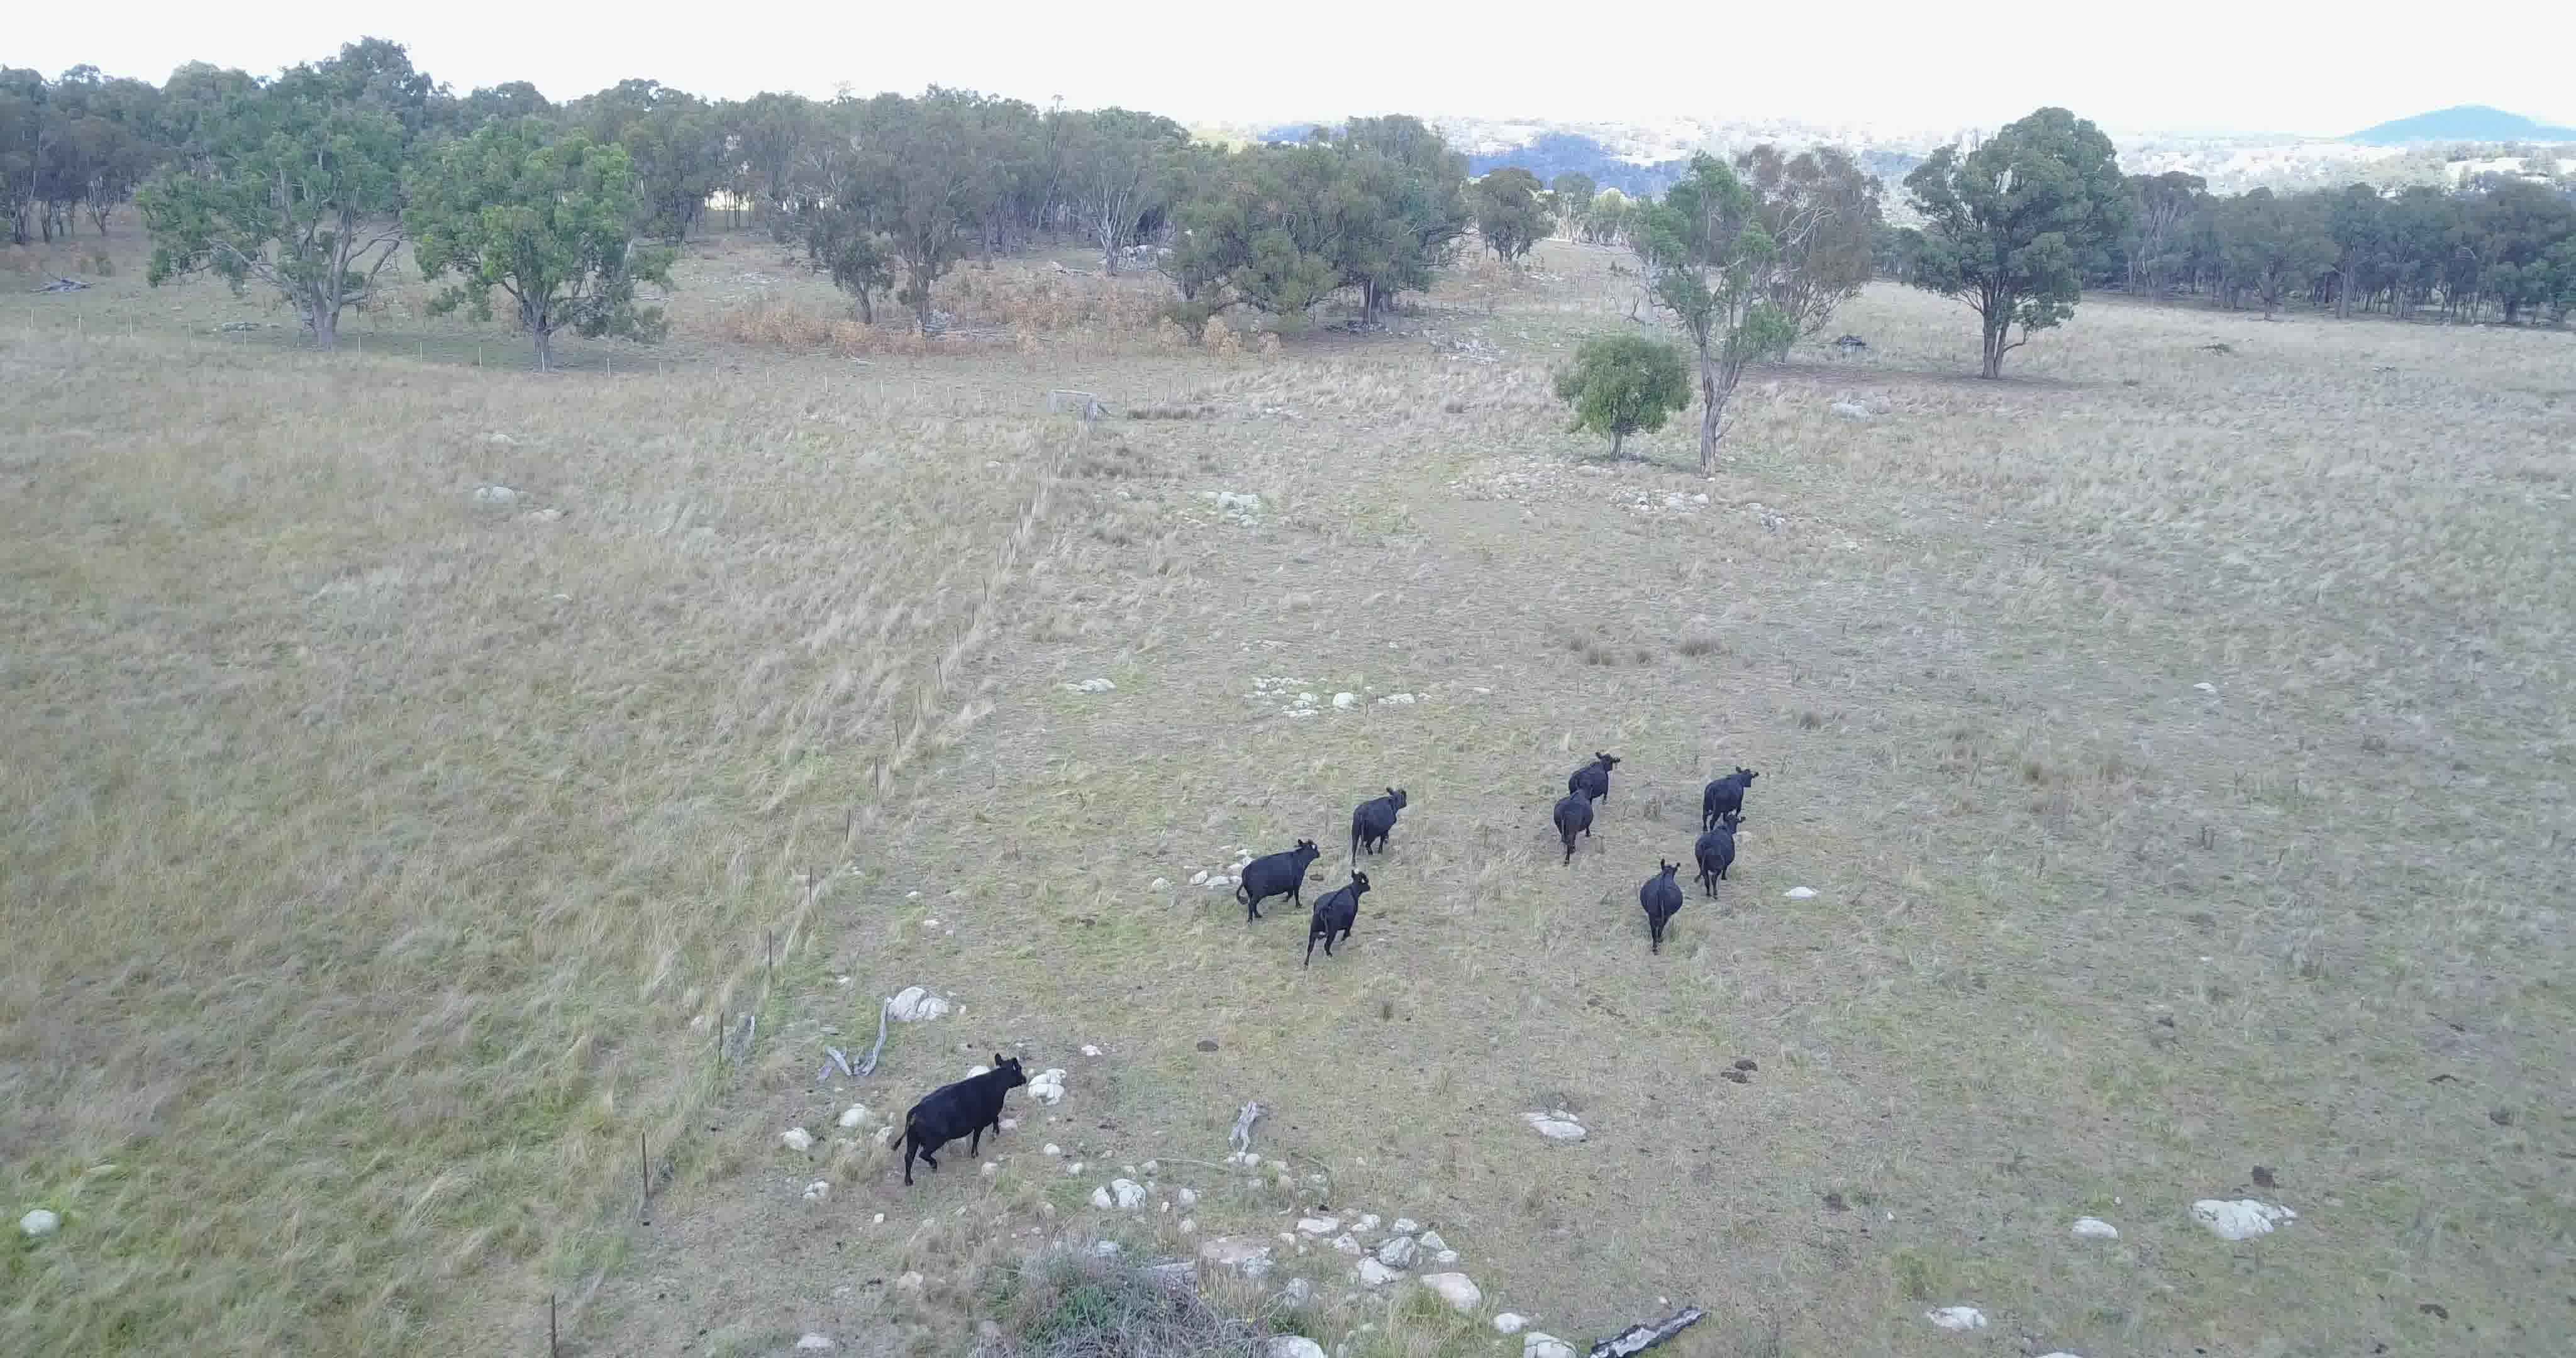cattle: (886, 1048, 1032, 1194), (1230, 837, 1320, 925), (1300, 869, 1373, 973), (1348, 784, 1411, 871), (1690, 813, 1746, 905), (1637, 857, 1688, 954), (1699, 765, 1758, 831), (1550, 777, 1595, 866), (1564, 751, 1622, 801)
